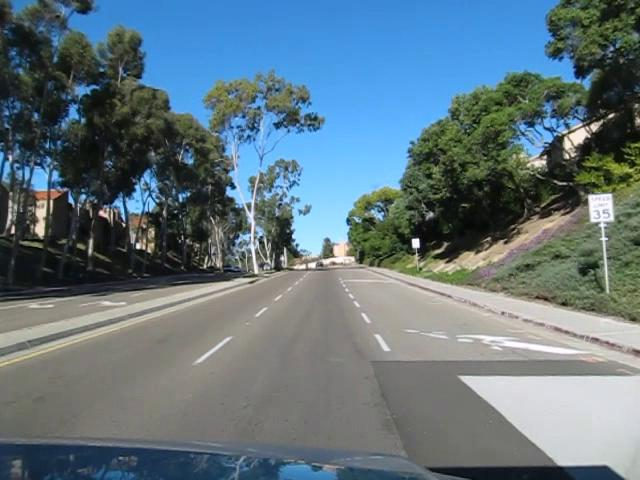speedLimit35: (587, 192, 615, 222)
